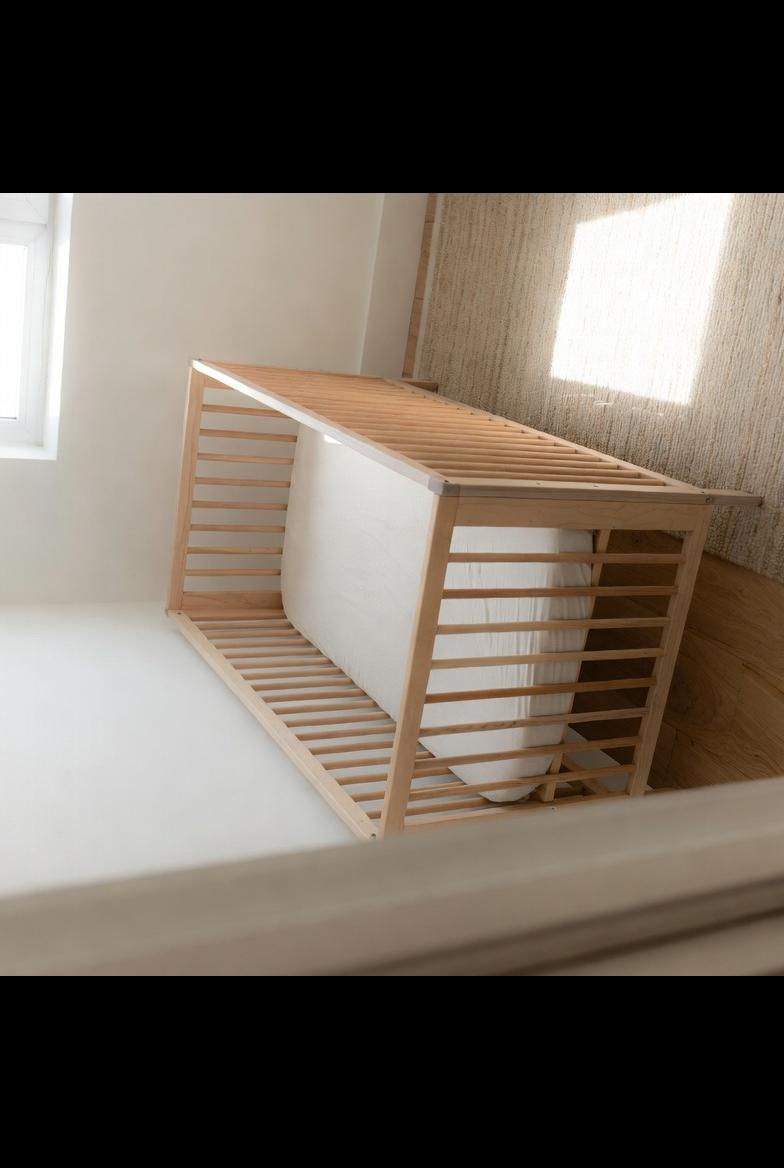crib: (167, 359, 760, 838)
